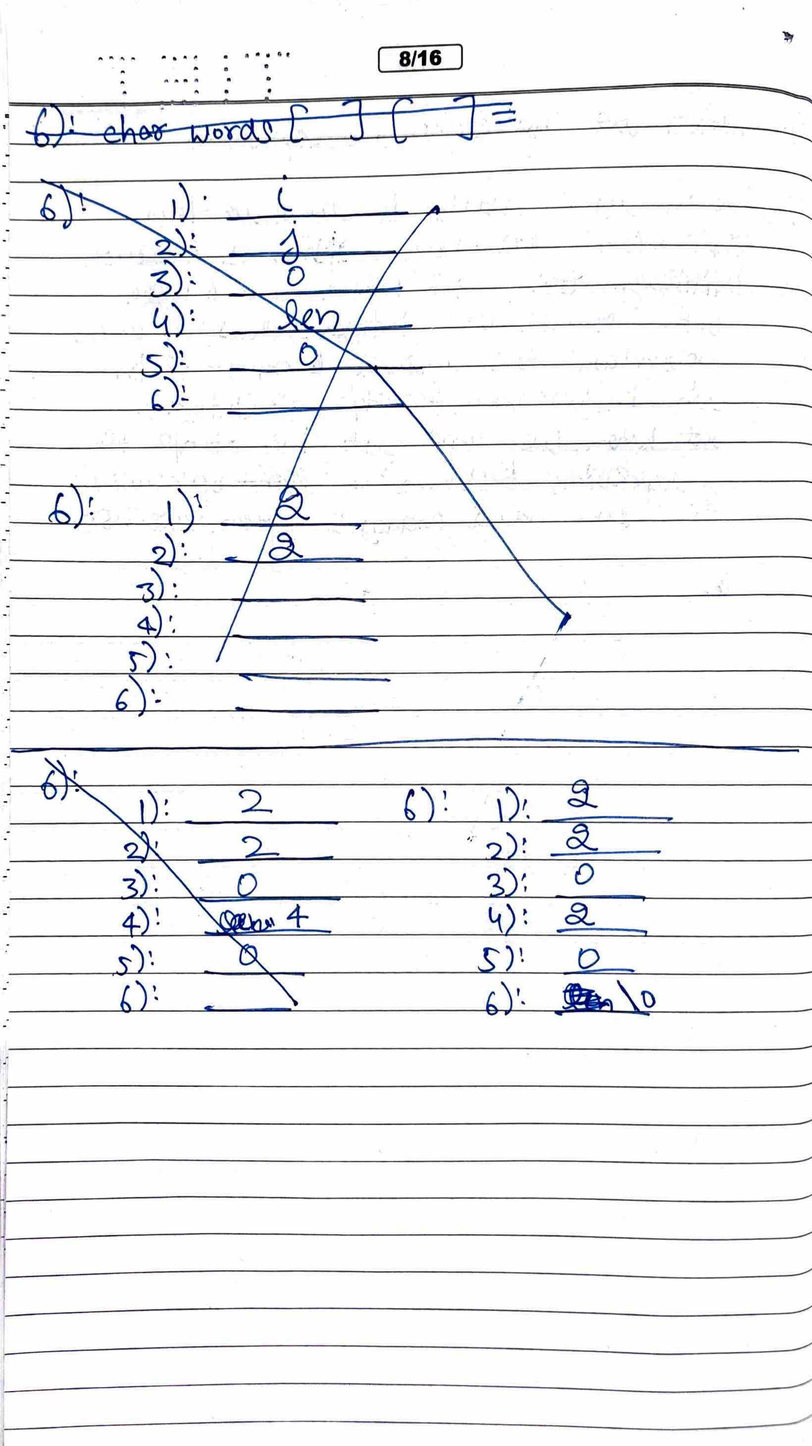cuttings: (33, 170, 579, 720), (35, 753, 349, 1019), (23, 87, 523, 156), (558, 980, 618, 1015)
